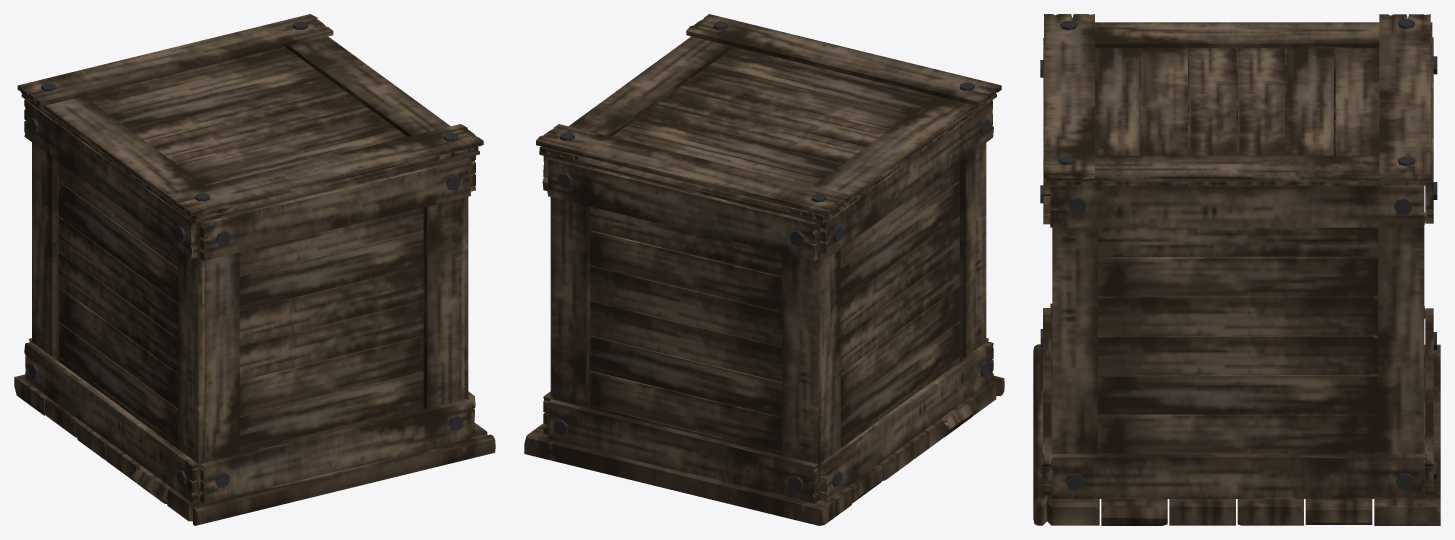
Rendered from Crate.fbx.
The picture shows the model from 3 angles, left to right: view 1: azimuth 30°, elevation 25°; view 2: azimuth 150°, elevation 25°; view 3: azimuth 270°, elevation 25°; orthographic projection. The views are drawn at different scales.
Parts seen in each view (by area): view 1: Crate, Lid; view 2: Crate, Lid; view 3: Crate, Lid.
Part boxes in pixels (x1,y1,x2,y2): Crate: (14, 99, 495, 525); Lid: (17, 14, 483, 223); Crate: (524, 100, 1004, 525); Lid: (536, 14, 1001, 223); Crate: (1033, 37, 1440, 525); Lid: (1043, 14, 1432, 185).
Bounding box in the file's own units: 94.48 × 92.64 × 97.5.
1 material, 1 textured.
